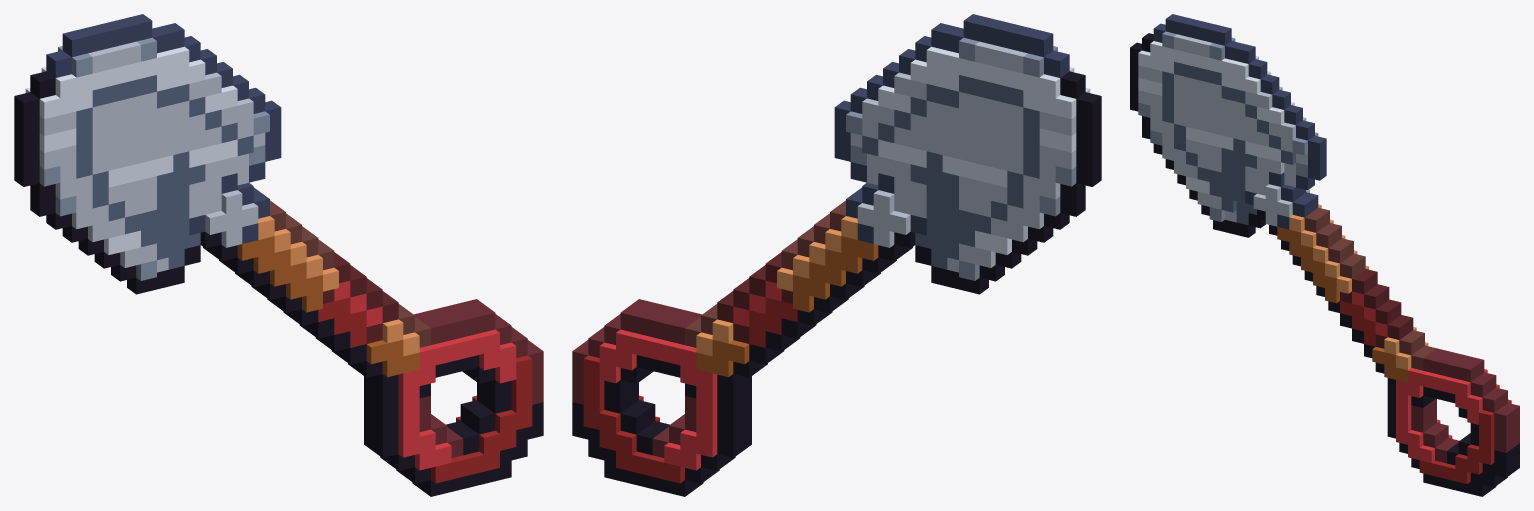
Rendered from Silver_Shovel_OBJ.obj.
3 renders of one model, left to right at view 1: azimuth 30°, elevation 25°; view 2: azimuth 150°, elevation 25°; view 3: azimuth 330°, elevation 25°, orthographic. The views are drawn at different scales.
Size of the model in its own units: 0.96 by 0.96 by 0.09.
